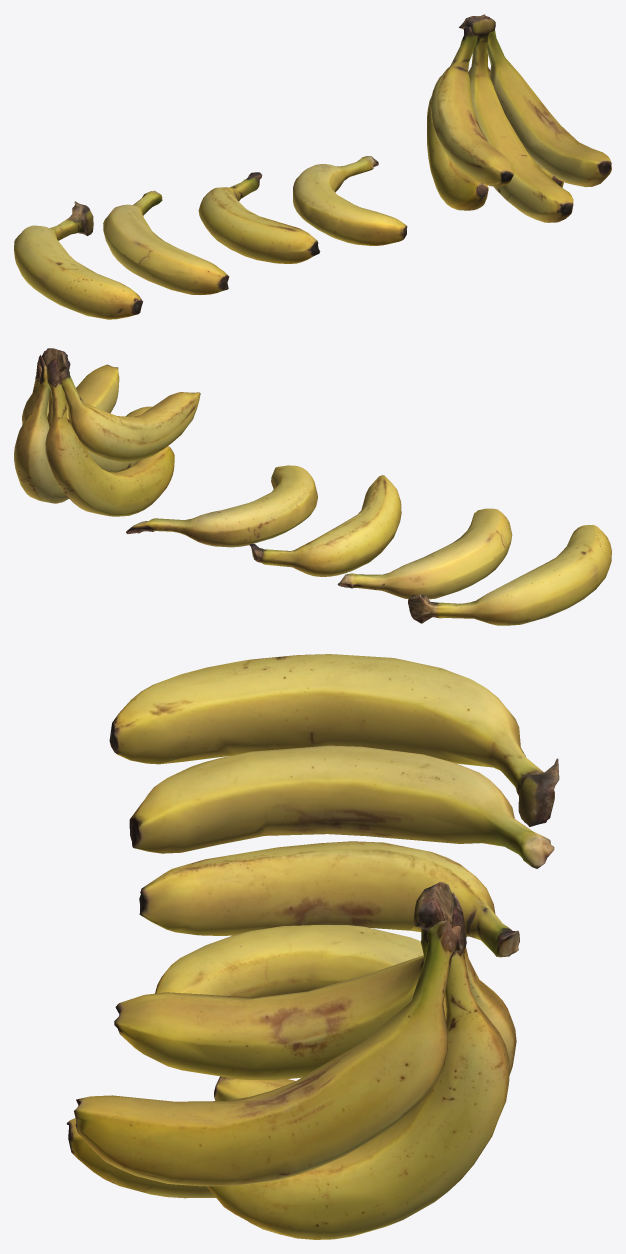
Rendered from bananas.glb.
The picture shows the model from 3 angles, top to bottom: view 1: azimuth 30°, elevation 25°; view 2: azimuth 150°, elevation 25°; view 3: azimuth 270°, elevation 25°; orthographic projection. The views are drawn at different scales.
Visible parts, largest first — view 1: bananas_bunch, bananas_d, bananas_c, bananas_a, bananas_b; view 2: bananas_bunch, bananas_d, bananas_c, bananas_a, bananas_b; view 3: bananas_bunch, bananas_d, bananas_c, bananas_b, bananas_a.
Part boxes in pixels (x1=…): bananas_bunch: x1=427, y1=14, x2=611, y2=222; bananas_d: x1=14, y1=201, x2=143, y2=319; bananas_c: x1=103, y1=190, x2=229, y2=294; bananas_a: x1=293, y1=156, x2=407, y2=245; bananas_b: x1=198, y1=172, x2=320, y2=263; bananas_bunch: x1=14, y1=348, x2=200, y2=516; bananas_d: x1=408, y1=525, x2=611, y2=625; bananas_c: x1=337, y1=508, x2=512, y2=599; bananas_a: x1=126, y1=465, x2=317, y2=547; bananas_b: x1=249, y1=475, x2=401, y2=576; bananas_bunch: x1=67, y1=882, x2=516, y2=1239; bananas_d: x1=109, y1=654, x2=559, y2=826; bananas_c: x1=129, y1=745, x2=554, y2=868; bananas_b: x1=139, y1=841, x2=519, y2=957; bananas_a: x1=155, y1=925, x2=423, y2=997.
Size of the model in its own units: 0.5998 by 0.1787 by 0.2441.
Materials: 1 (1 with a texture image).
